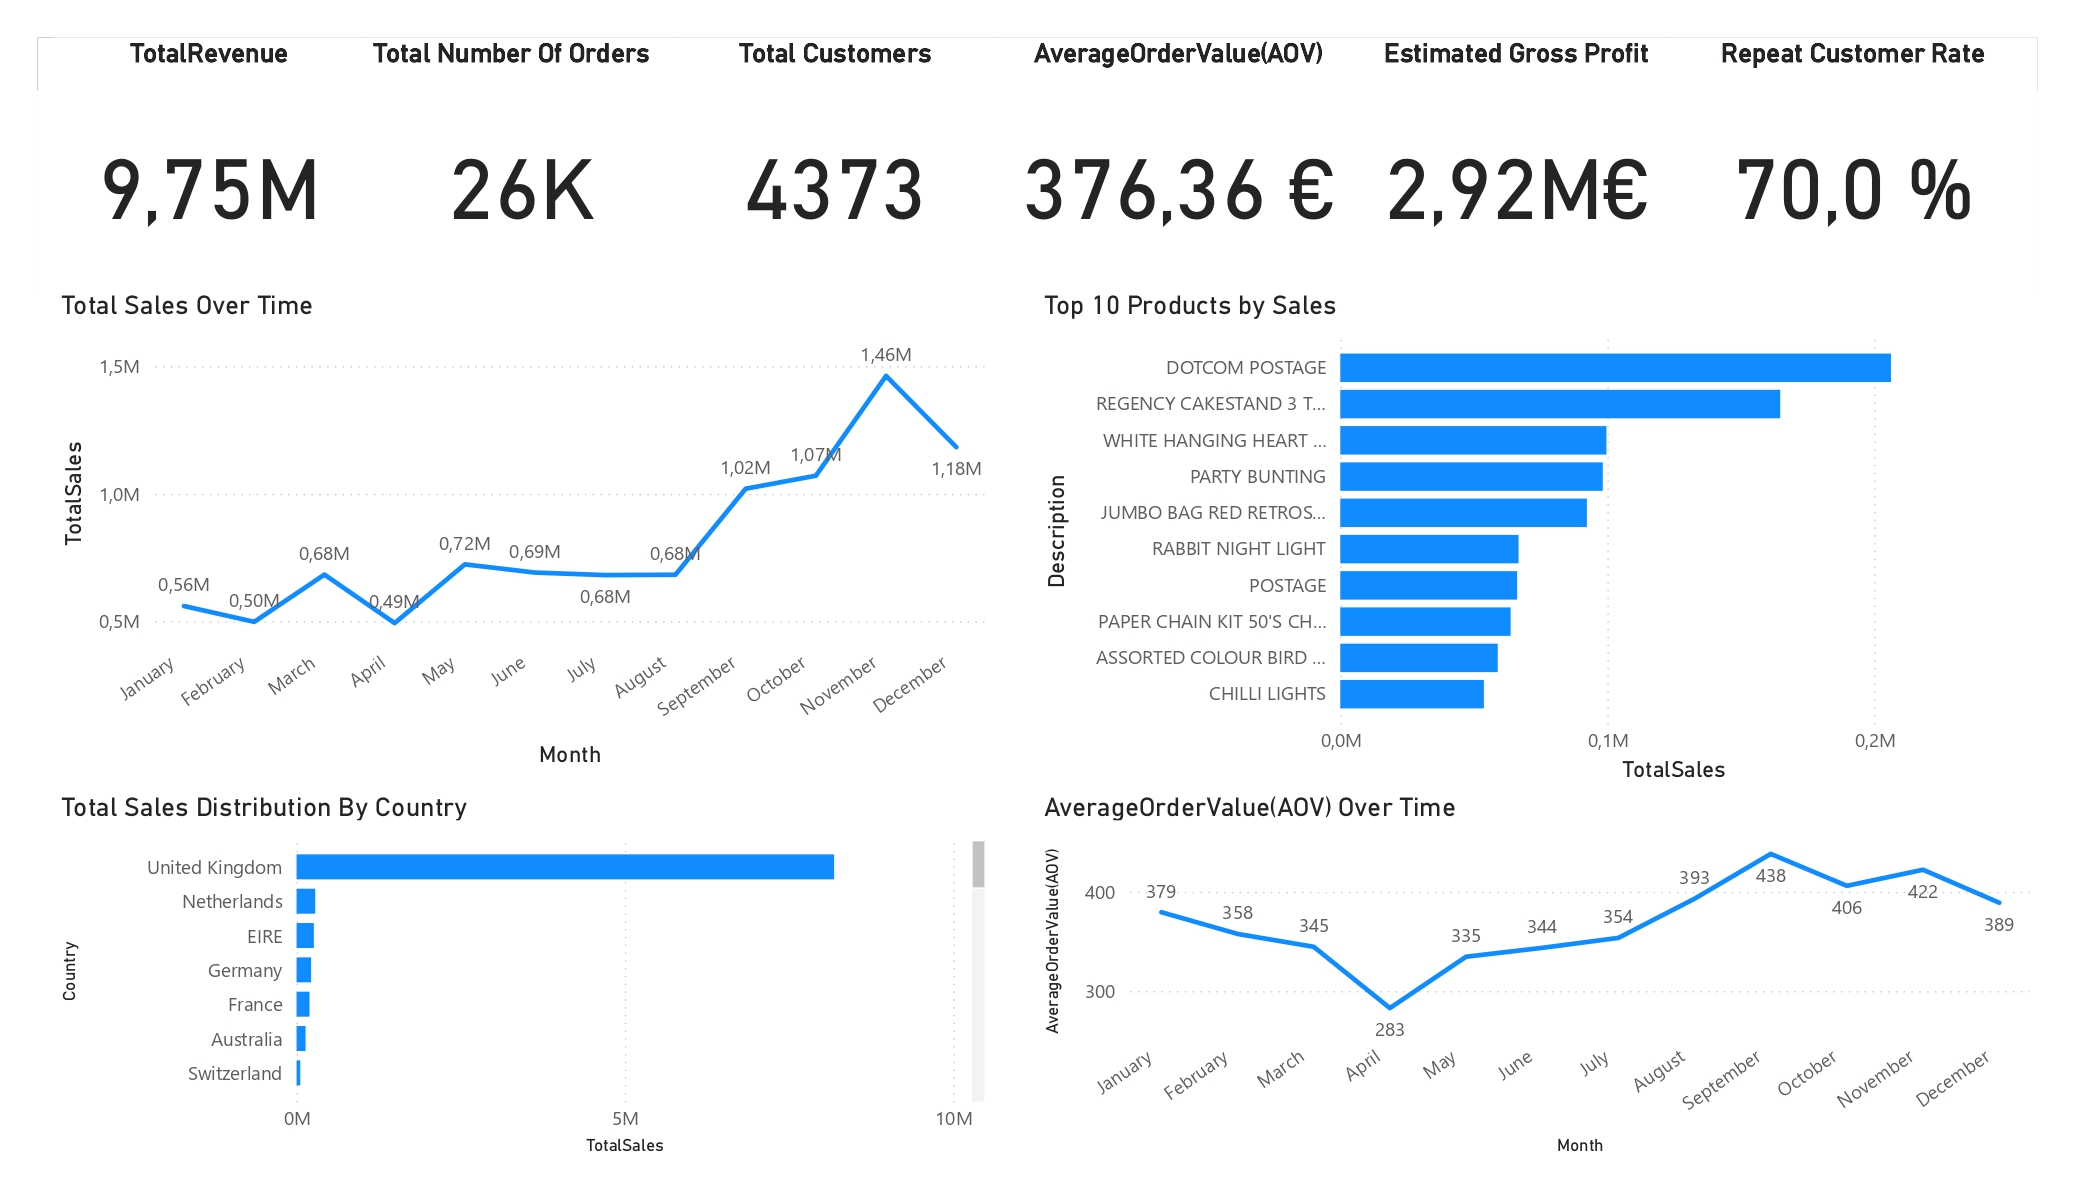

What the dashboard file says about the page in this screenshot:
{"tool":"powerbi","page":{"name":"StakeholderBriefing","canvas":[1280,720],"ordinal":0},"visuals":[{"type":"card","title":"TotalRevenue","fields":{"Values":["Online Retail.TotalSales"]},"box":[9.6,0,200.3,160.5],"z":0},{"type":"card","title":"Total Number Of Orders","fields":{"Values":["Online Retail.TotalOrders"]},"box":[209.9,0,200.3,160.5],"z":1000},{"type":"card","title":"Total Customers","fields":{"Values":["Online Retail.CustomerCount"]},"box":[410.3,0,200.3,160.5],"z":2000},{"type":"lineChart","title":"Total Sales Over Time","fields":{"Y":["Online Retail.TotalSales"],"Category":["Online Retail.InvoiceDate.Variation.Date Hierarchy.Month"]},"box":[9.6,160.5,601,311.5],"z":3000},{"type":"barChart","title":"Total Sales Distribution By Country","fields":{"Category":["Online Retail.Country"],"Y":["Online Retail.TotalSales"]},"box":[10,482,601,238],"z":4000},{"type":"clusteredBarChart","title":"Top 10 Products by Sales","fields":{"Category":["Online Retail.Description"],"Y":["Online Retail.TotalSales"]},"box":[639.5,160.5,640.8,321.1],"z":5000},{"type":"card","title":"AverageOrderValue(AOV)","fields":{"Values":["Online Retail.AverageOrderValue(AOV)"]},"box":[610.6,0,238.8,160.5],"z":6000},{"type":"lineChart","title":"AverageOrderValue(AOV) Over Time","fields":{"Category":["Online Retail.InvoiceDate.Variation.Date Hierarchy.Month"],"Y":["Online Retail.AverageOrderValue(AOV)"]},"box":[639.5,481.6,640.8,238.8],"z":7000},{"type":"card","title":"Estimated Gross Profit","fields":{"Values":["Online Retail.EstimatedGrossProfit"]},"box":[849.4,0,194.9,160.5],"z":8000},{"type":"card","title":"Repeat Customer Rate","fields":{"Values":["Online Retail.Repeat Customer Rate"]},"box":[1044,0,236,161],"z":9000}]}

Visuals, with their boxes in screenshot pixels (x1, y1, x2, y2):
"TotalRevenue" card: left=52, top=38, right=365, bottom=288
"Total Number Of Orders" card: left=365, top=38, right=678, bottom=288
"Total Customers" card: left=679, top=38, right=992, bottom=288
"Total Sales Over Time" lineChart: left=52, top=288, right=992, bottom=775
"Total Sales Distribution By Country" barChart: left=53, top=791, right=992, bottom=1162
"Top 10 Products by Sales" clusteredBarChart: left=1037, top=288, right=2038, bottom=790
"AverageOrderValue(AOV)" card: left=992, top=38, right=1365, bottom=288
"AverageOrderValue(AOV) Over Time" lineChart: left=1037, top=790, right=2038, bottom=1162
"Estimated Gross Profit" card: left=1365, top=38, right=1669, bottom=288
"Repeat Customer Rate" card: left=1669, top=38, right=2038, bottom=289
